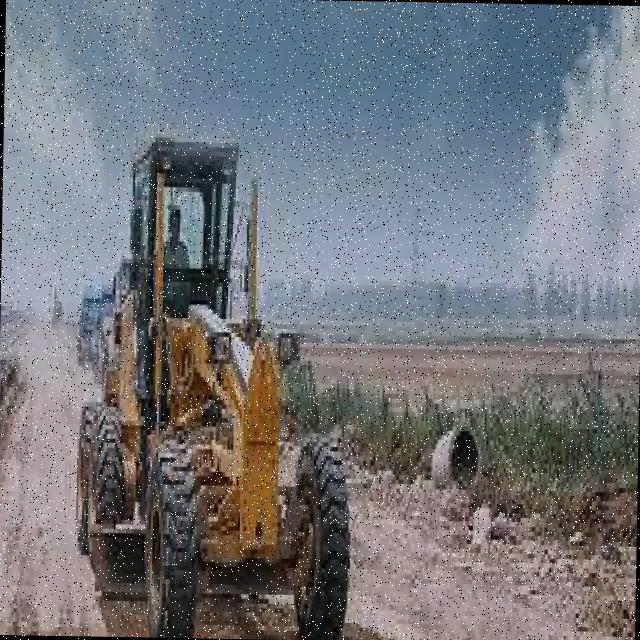Grader: (67, 99, 384, 640)
